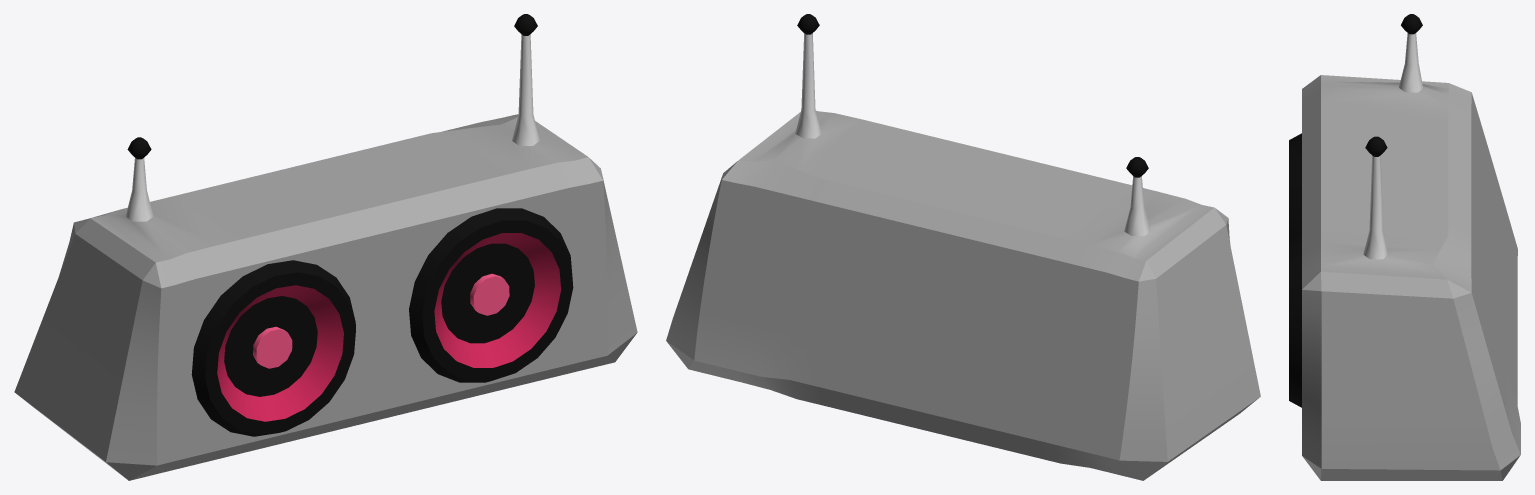
File: Boomer.fbx
3 renders of one model, left to right at view 1: azimuth 30°, elevation 25°; view 2: azimuth 150°, elevation 25°; view 3: azimuth 270°, elevation 25°, orthographic. The views are drawn at different scales.
Visible parts, largest first — view 1: boomin; view 2: boomin; view 3: boomin.
Boxes of the visible parts, x1,y1,x2,y2 form: boomin: [14, 14, 637, 480]; boomin: [666, 14, 1260, 480]; boomin: [1289, 14, 1520, 480].
Bounding box in the file's own units: 1.59 × 0.9655 × 0.6405.
